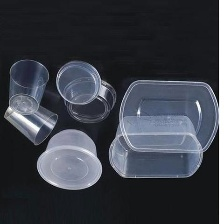plastic_box: (105, 74, 218, 190), (31, 124, 106, 195), (50, 56, 120, 127), (0, 94, 62, 150), (3, 55, 52, 119)
